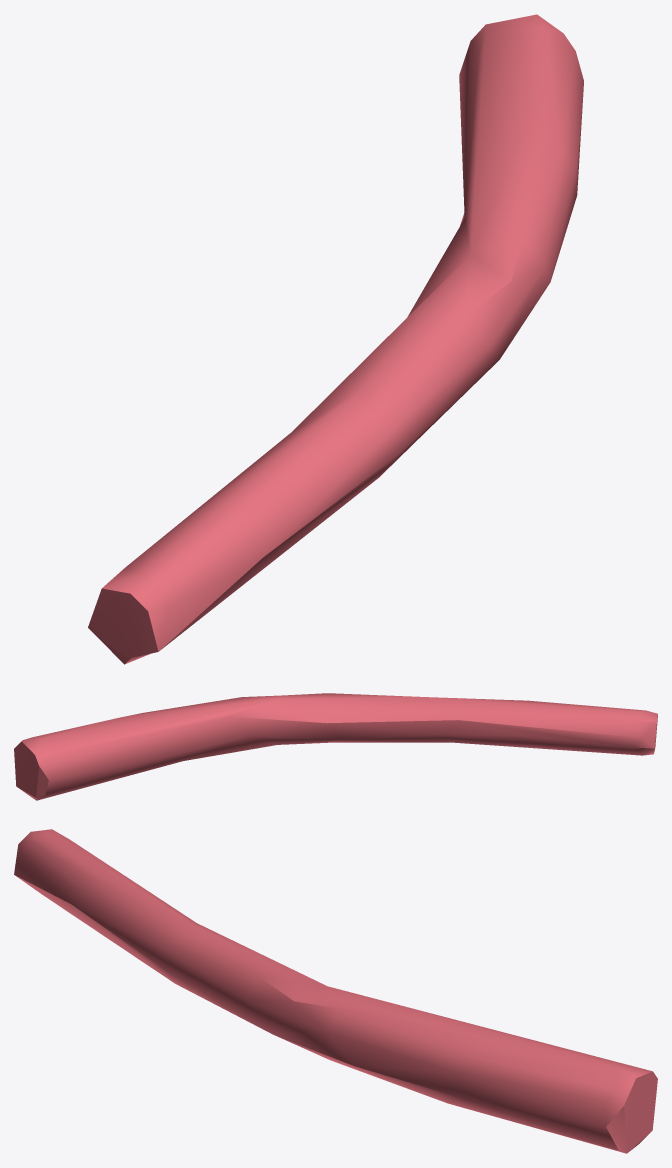
The model's file is fma8619_fj6041.glb.
The picture shows the model from 3 angles, top to bottom: view 1: azimuth 30°, elevation 25°; view 2: azimuth 150°, elevation 25°; view 3: azimuth 270°, elevation 25°; orthographic projection. The views are drawn at different scales.
Visible parts, largest first — view 1: FMA8619_FJ6041; view 2: FMA8619_FJ6041; view 3: FMA8619_FJ6041.
Part boxes in pixels (box(x1,y1,x2,y2)): FMA8619_FJ6041: box(88, 14, 583, 664); FMA8619_FJ6041: box(14, 693, 657, 800); FMA8619_FJ6041: box(14, 829, 657, 1153).
Size of the model in its own units: 0.0199 by 0.00292 by 0.0179.
